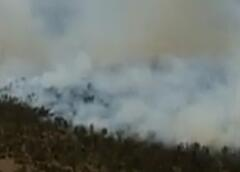yanwu: (0, 1, 239, 146)
